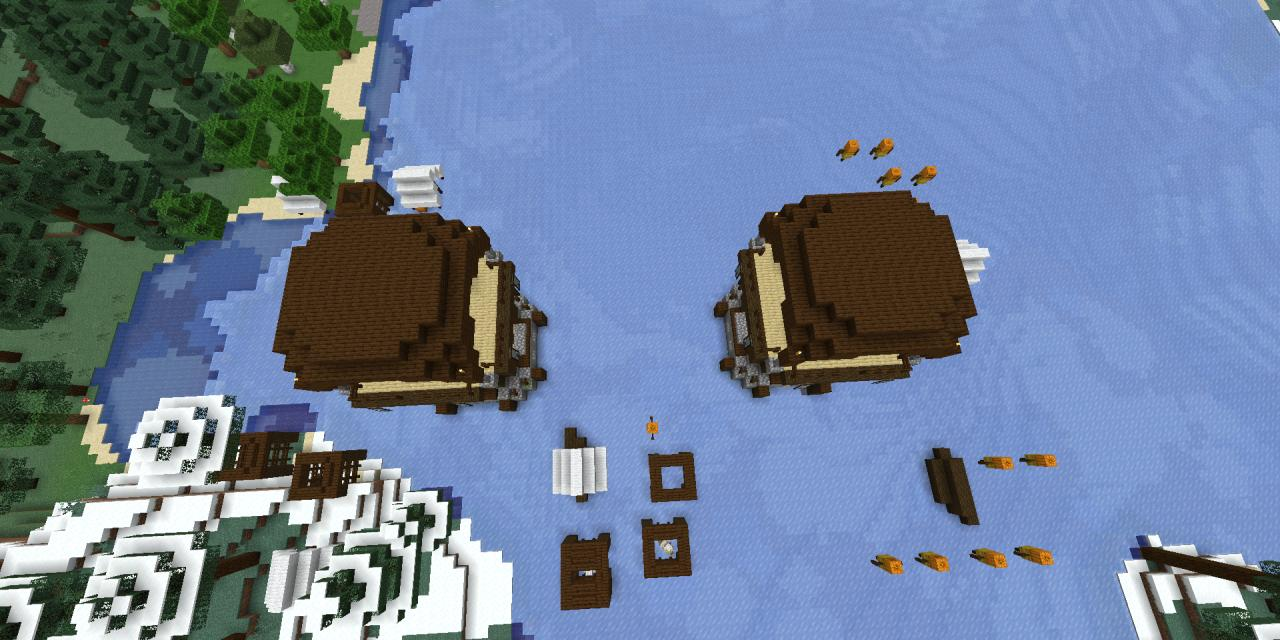pillager outpost: (704, 183, 988, 406), (269, 215, 562, 427)
